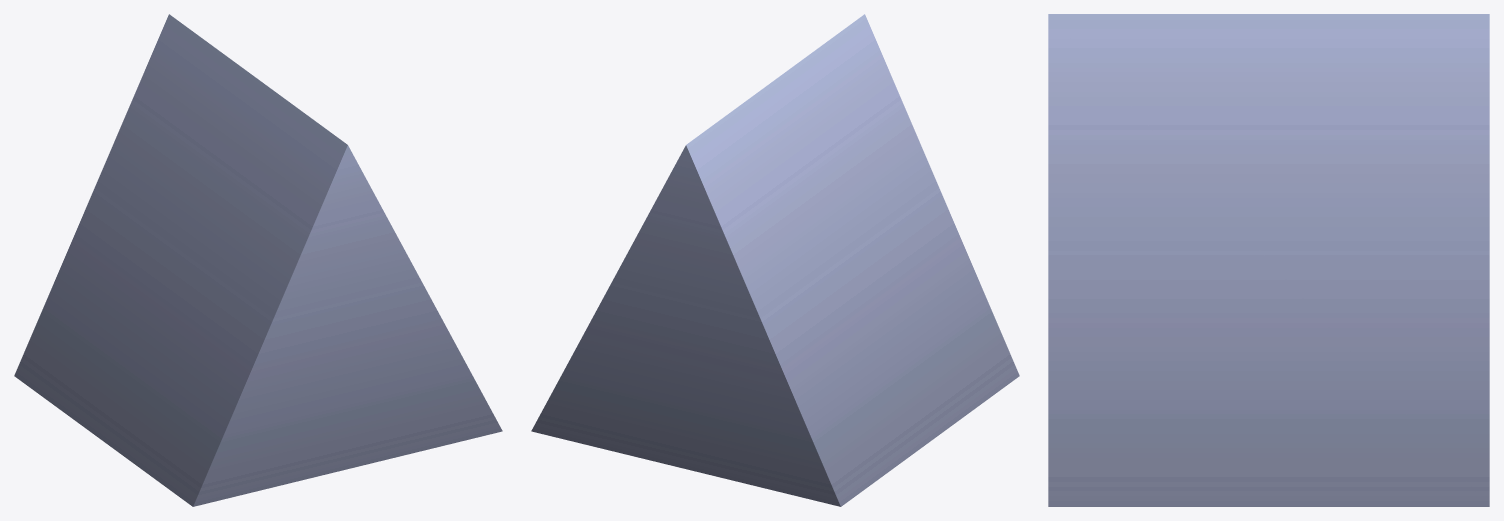
The model's file is shape-triangular-prism.glb.
The picture shows the model from 3 angles, left to right: view 1: azimuth 30°, elevation 25°; view 2: azimuth 150°, elevation 25°; view 3: azimuth 270°, elevation 25°; orthographic projection. The views are drawn at different scales.
Parts seen in each view (by area): view 1: shape-triangular-prism; view 2: shape-triangular-prism; view 3: shape-triangular-prism.
Part boxes in pixels (x1,y1,x2,y2): shape-triangular-prism: (14,14,502,506); shape-triangular-prism: (531,14,1019,506); shape-triangular-prism: (1048,14,1489,506).
Size of the model in its own units: 1 by 1 by 1.
Materials: 1 (1 with a texture image).
